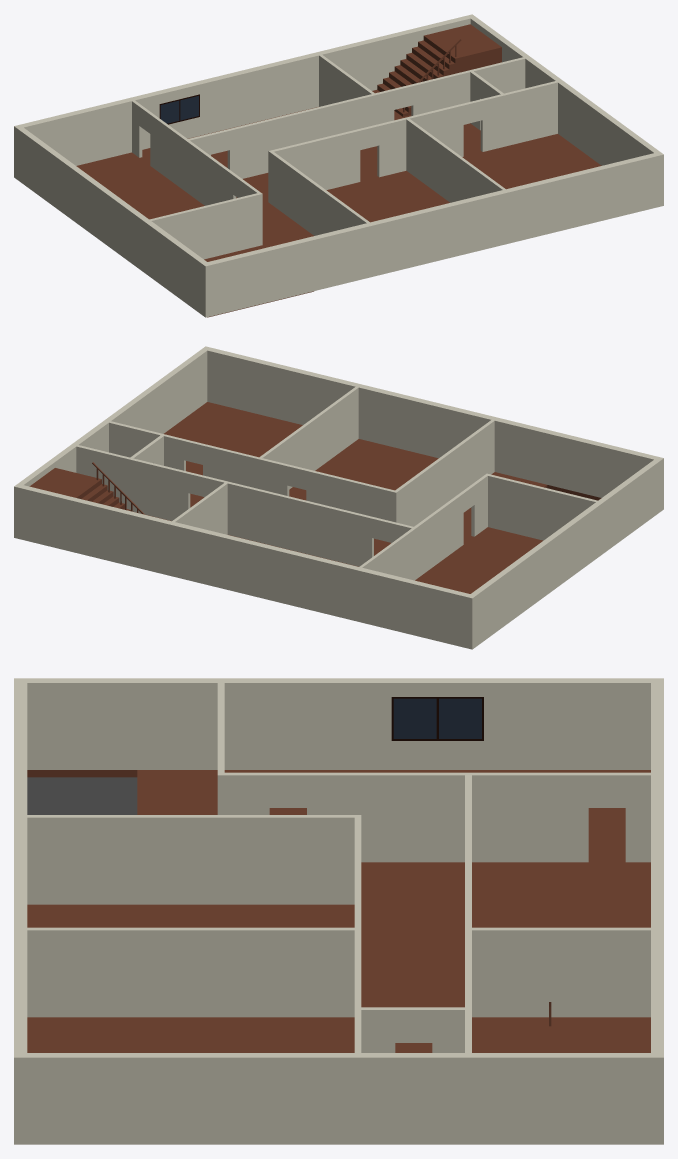
The model's file is InnerHouse (2).fbx.
The picture shows the model from 3 angles, top to bottom: view 1: azimuth 30°, elevation 25°; view 2: azimuth 150°, elevation 25°; view 3: azimuth 270°, elevation 25°; orthographic projection. The views are drawn at different scales.
Visible parts, largest first — view 1: Cube.000; view 2: Cube.000; view 3: Cube.000.
Part boxes in pixels (box(x1,y1,x2,y2)): Cube.000: box(14, 14, 663, 317); Cube.000: box(14, 346, 663, 649); Cube.000: box(14, 678, 663, 1144).
Bounding box in the file's own units: 729 × 101 × 528.
